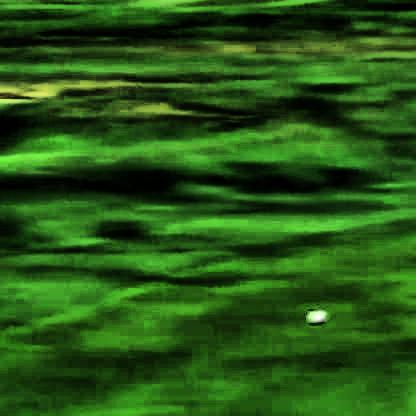golfball: (303, 307, 325, 325)
